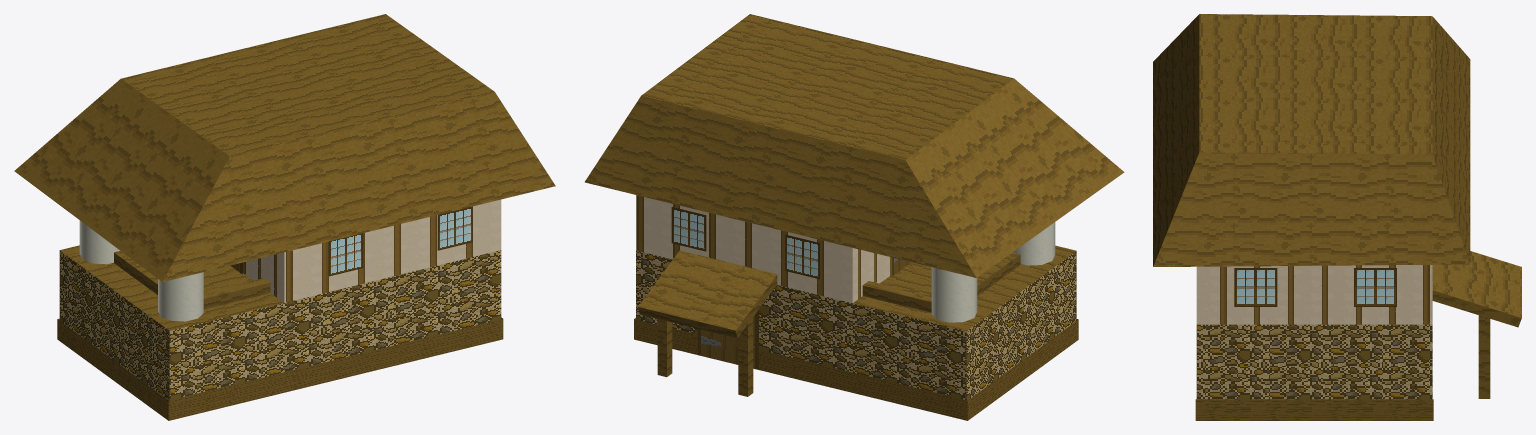
Rendered from land_bank.fbx.
3 renders of one model, left to right at view 1: azimuth 30°, elevation 25°; view 2: azimuth 150°, elevation 25°; view 3: azimuth 270°, elevation 25°, orthographic. The views are drawn at different scales.
Parts seen in each view (by area): view 1: house_1_8; view 2: house_1_8; view 3: house_1_8.
Boxes of the visible parts, x1=… form: house_1_8: x1=14, y1=14, x2=555, y2=420; house_1_8: x1=585, y1=14, x2=1124, y2=420; house_1_8: x1=1153, y1=14, x2=1521, y2=420.
Bounding box in the file's own units: 984 × 602 × 747.
6 materials, 6 textured.
